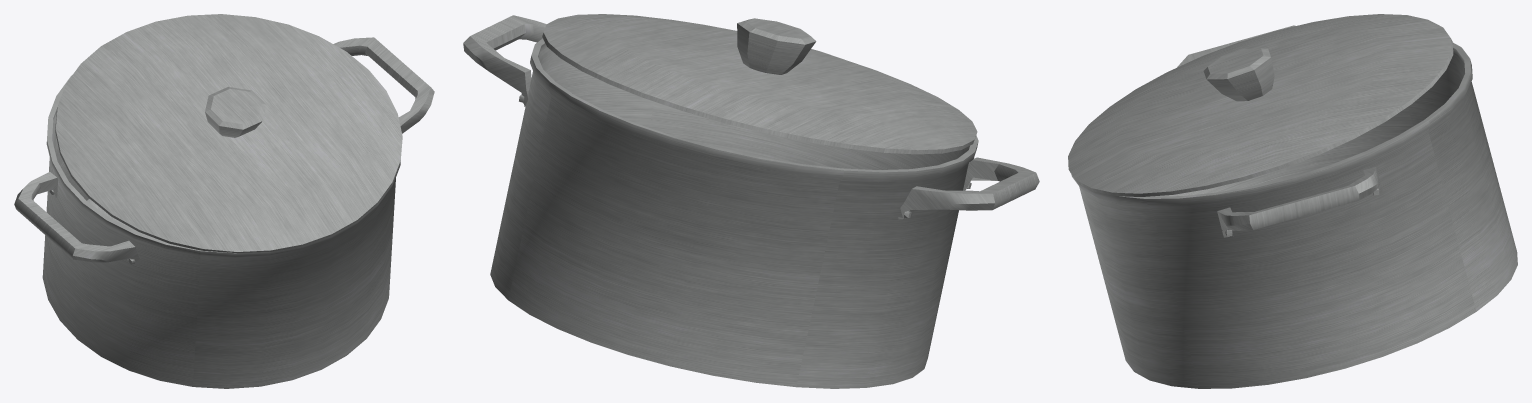
File: bingleton.glb
3 renders of one model, left to right at view 1: azimuth 30°, elevation 25°; view 2: azimuth 150°, elevation 25°; view 3: azimuth 270°, elevation 25°, orthographic. The views are drawn at different scales.
Visible parts, largest first — view 1: Cylinder.001, Cylinder; view 2: Cylinder, Cylinder.001; view 3: Cylinder, Cylinder.001.
Part boxes in pixels (bbox=[...]): Cylinder.001: bbox=[55, 14, 402, 252]; Cylinder: bbox=[14, 37, 434, 388]; Cylinder: bbox=[463, 15, 1039, 388]; Cylinder.001: bbox=[542, 14, 977, 154]; Cylinder: bbox=[1071, 25, 1517, 388]; Cylinder.001: bbox=[1068, 14, 1453, 196].
Size of the model in its own units: 7.44 by 4.58 by 6.21.
1 material, 1 textured.
